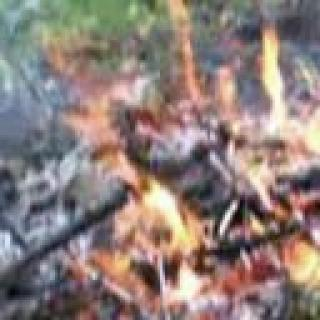fire: (62, 11, 320, 310)
